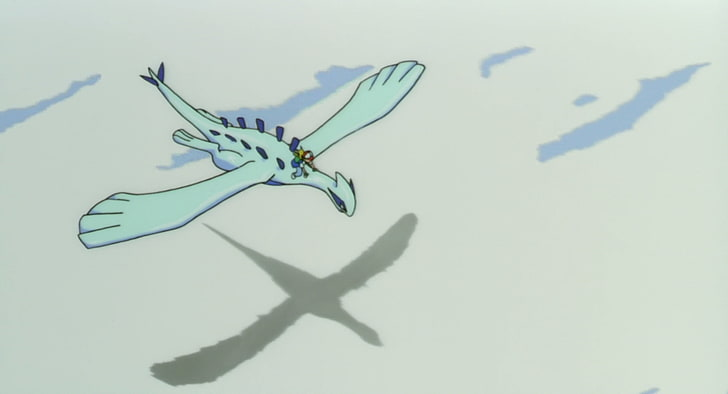lugia: (324, 172, 358, 217)
